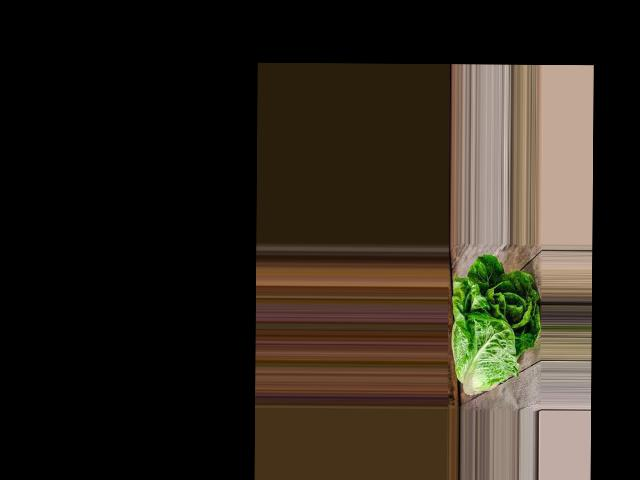lettuce: (452, 266, 534, 380)
